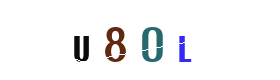0: (100, 0, 180, 80)
8: (99, 0, 179, 80)
L: (142, 0, 222, 80)
U: (62, 0, 142, 80)
